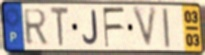F: (101, 6, 126, 49)
I: (161, 7, 172, 50)
J: (81, 9, 100, 47)
R: (22, 8, 50, 47)
T: (49, 5, 71, 49)
V: (130, 5, 159, 51)
